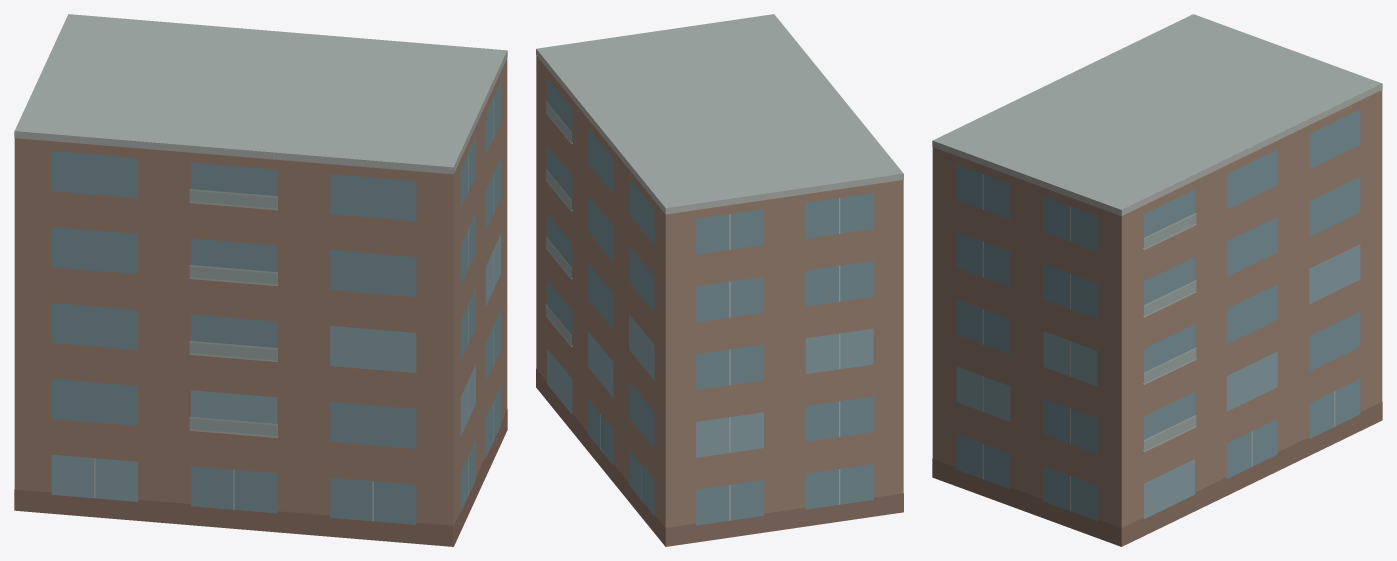
The model's file is survey-upis-32951819.glb.
3 renders of one model, left to right at view 1: azimuth 30°, elevation 25°; view 2: azimuth 150°, elevation 25°; view 3: azimuth 270°, elevation 25°, orthographic. The views are drawn at different scales.
Parts seen in each view (by area): view 1: survey-upis-32951819.tmp; view 2: survey-upis-32951819.tmp; view 3: survey-upis-32951819.tmp.
Boxes of the visible parts, <box> form: survey-upis-32951819.tmp: <box>14,14,507,546</box>; survey-upis-32951819.tmp: <box>536,14,903,546</box>; survey-upis-32951819.tmp: <box>932,14,1382,546</box>.
Bounding box in the file's own units: 16.48 × 13.2 × 15.99.
